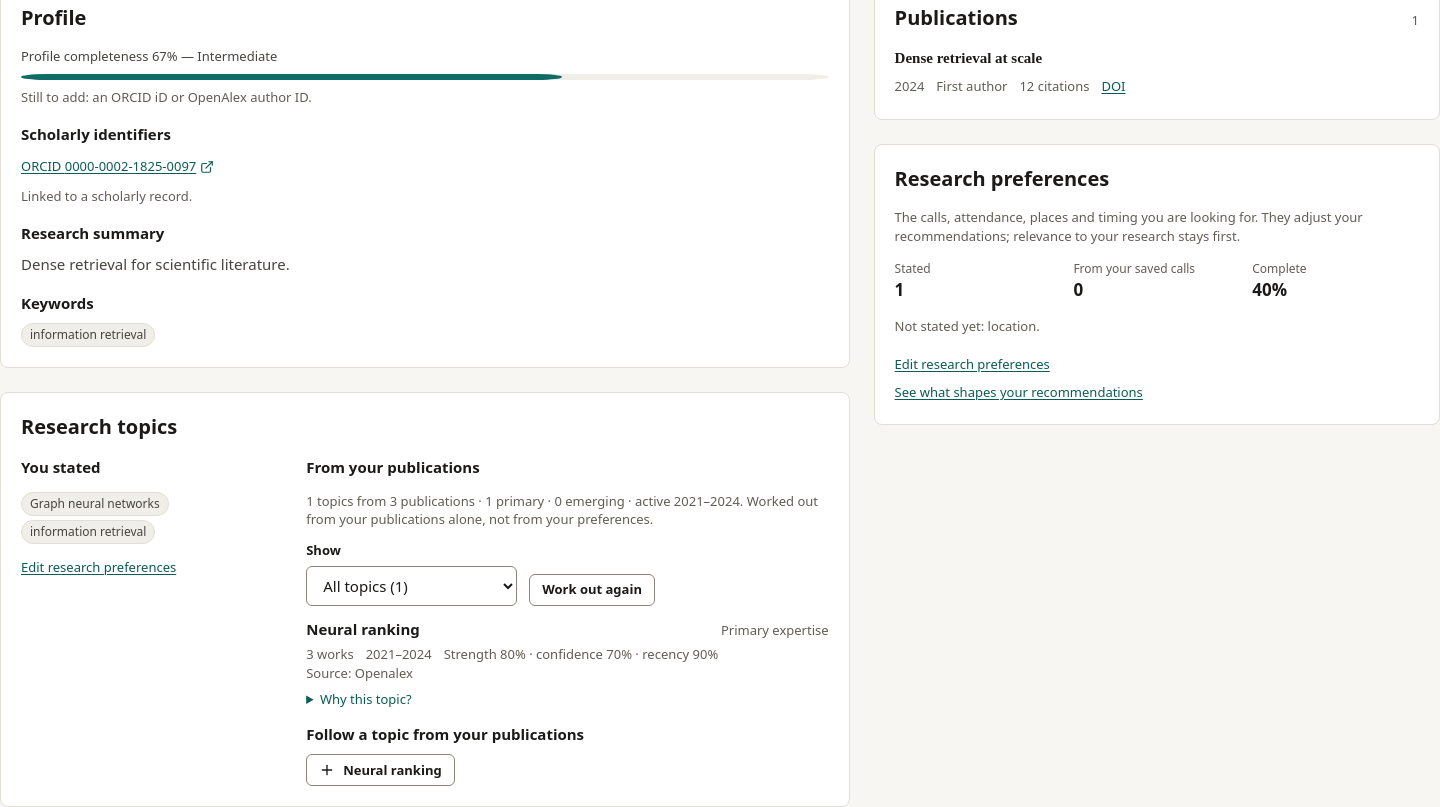
Test: researcher profile › follows a topic suggested from the publications only when asked
(page scrolled)
What coordinates should you click on to do the following:
click the button named "Follow Neural ranking"
I would click on:
 (380, 770)
Its box is [306, 754, 455, 786].
(page scrolled)
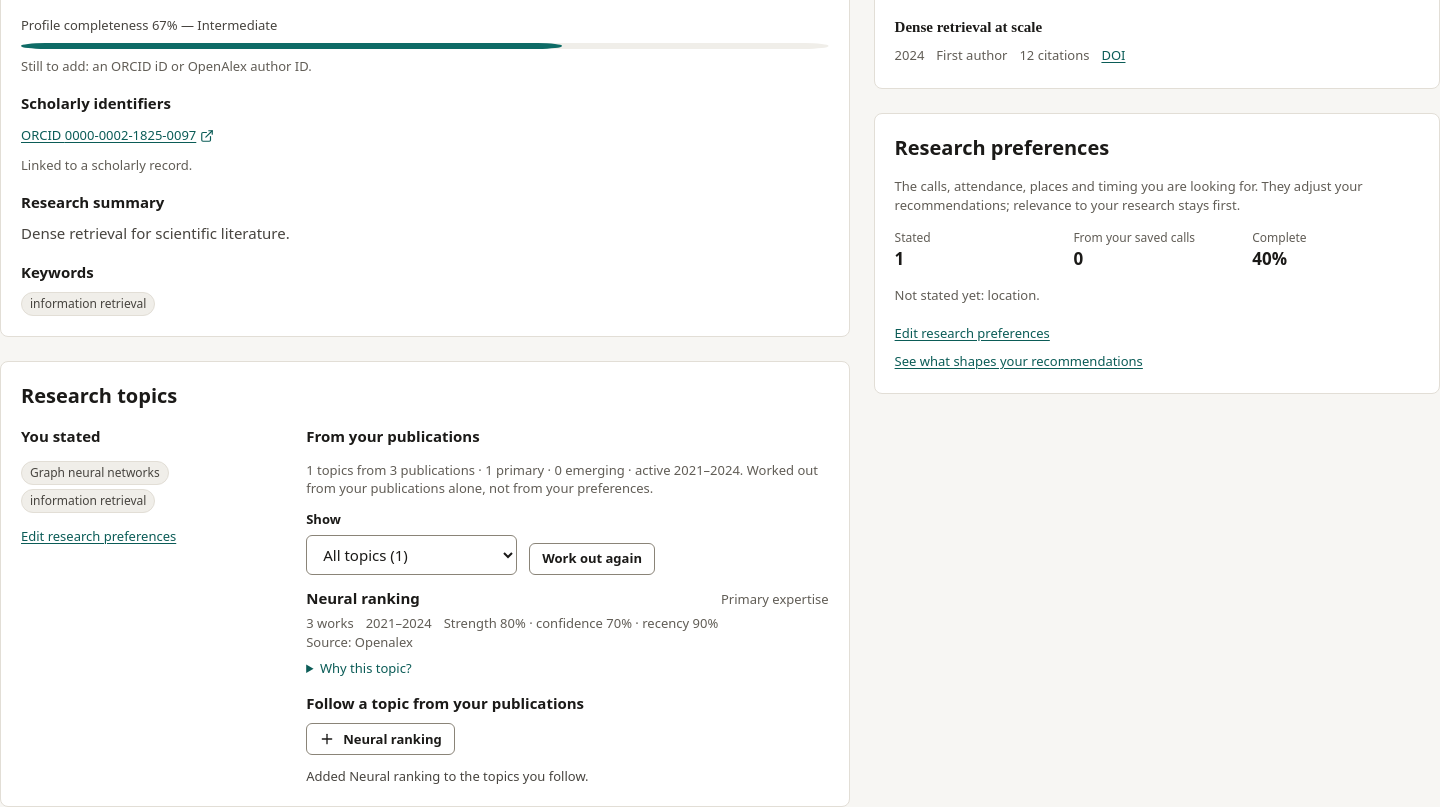
Result: the text "Added Neural ranking to the topics you follow." is shown at [306, 767, 589, 785]
